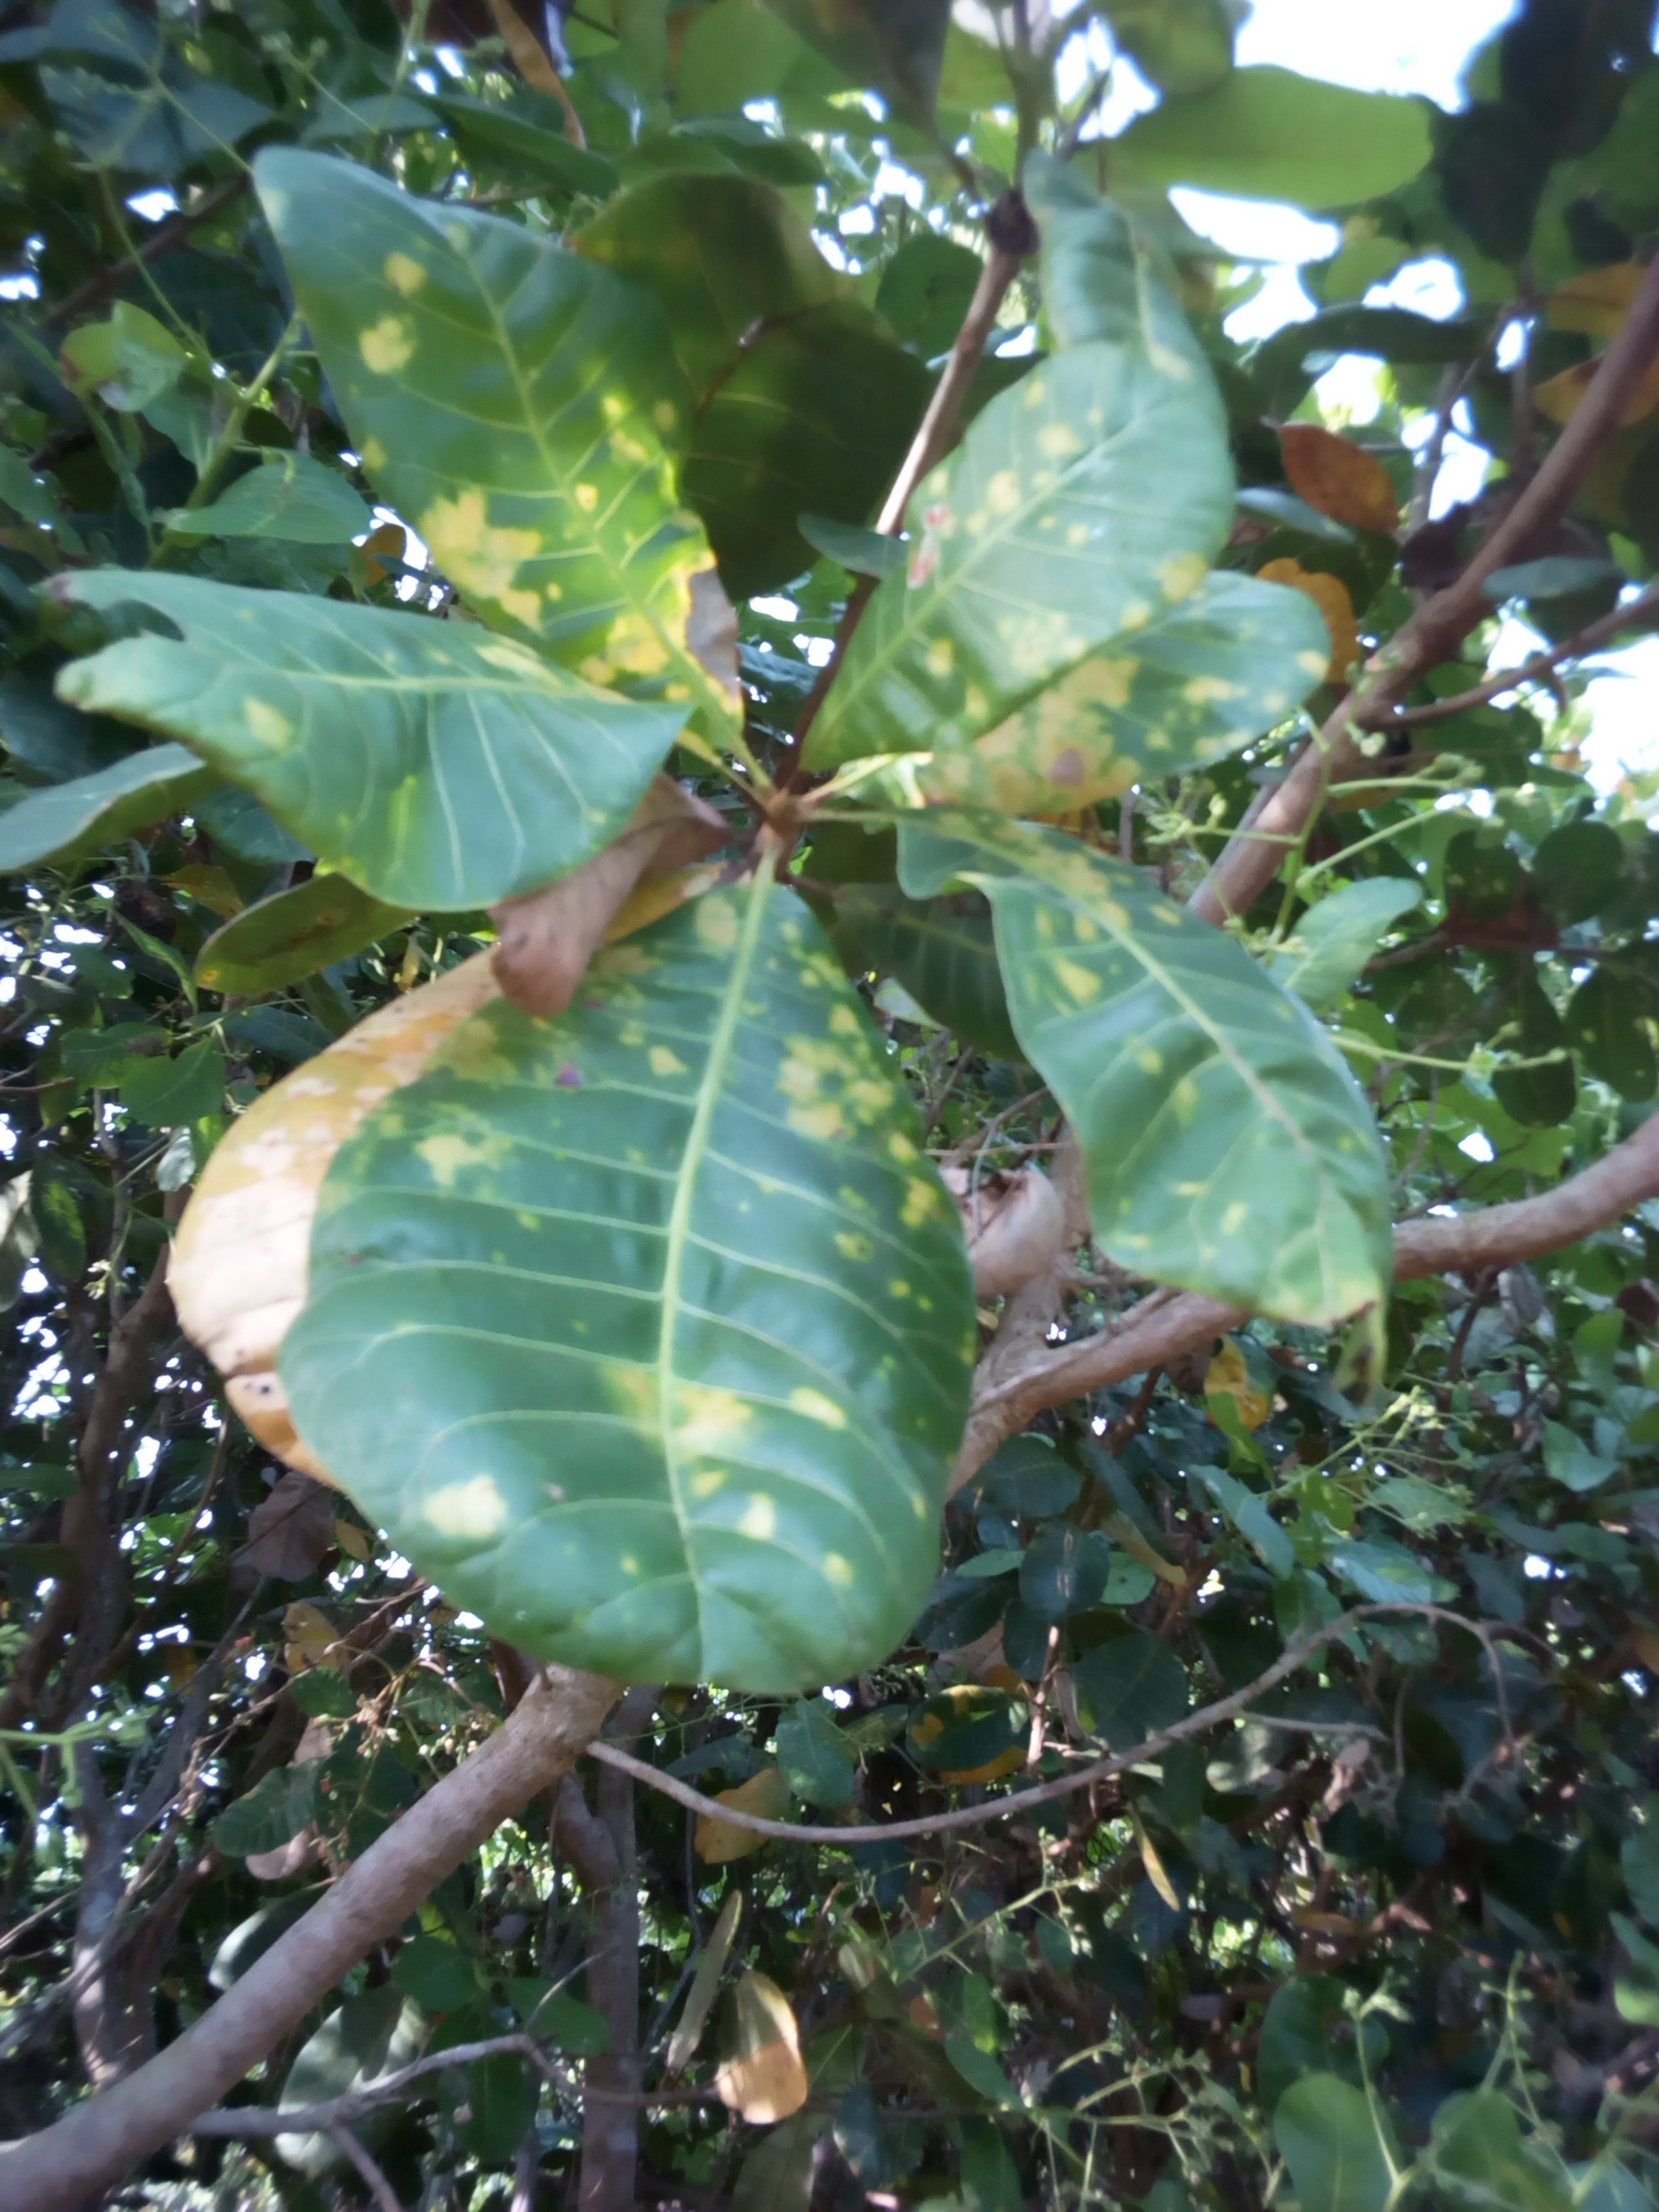Carence minérale: (162, 883, 1033, 1723), (253, 143, 809, 702), (992, 819, 1504, 1332), (16, 564, 687, 916), (802, 324, 1246, 754)
